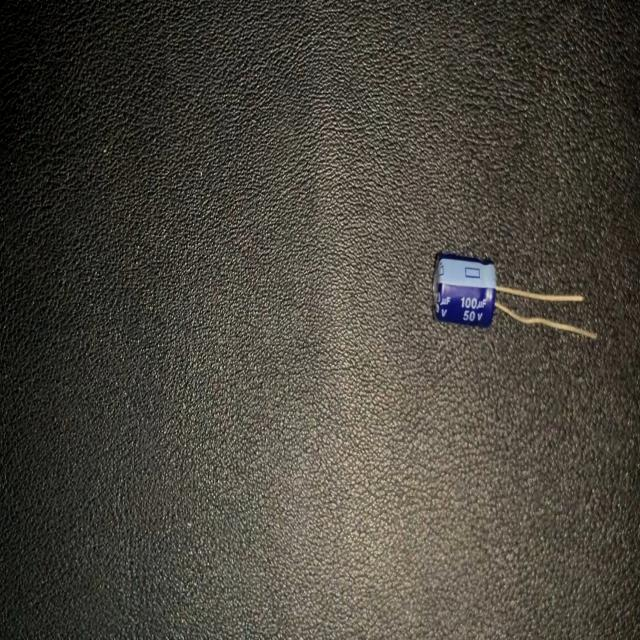capacitor: (430, 247, 600, 356)
